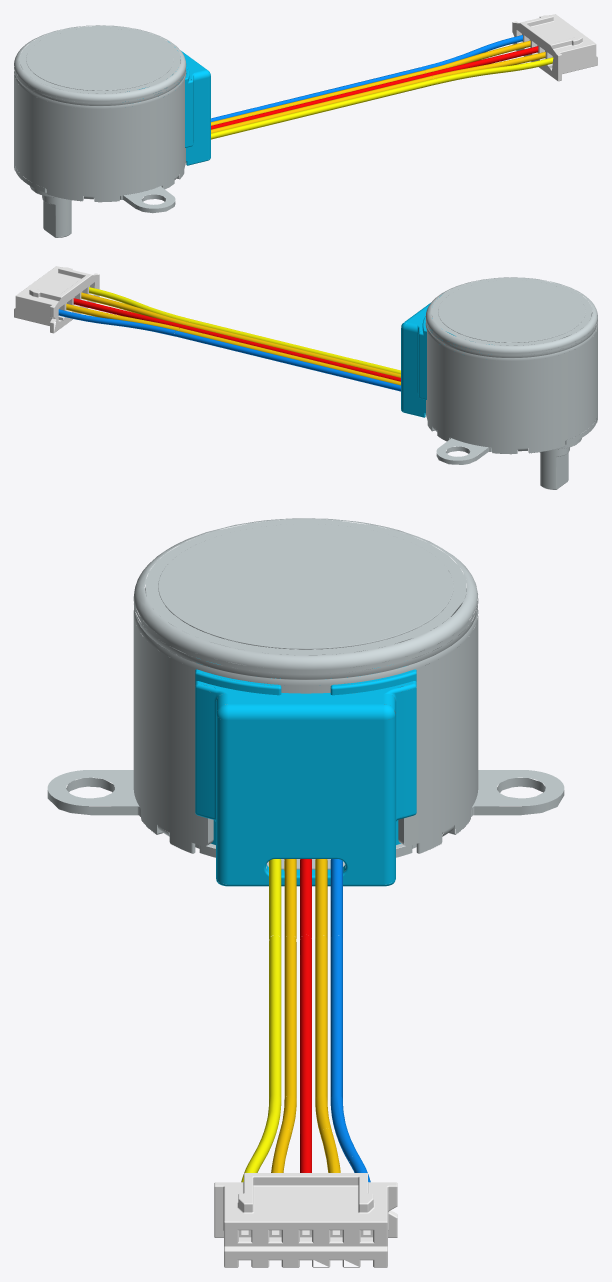
The model's file is motor.glb.
The picture shows the model from 3 angles, top to bottom: view 1: azimuth 30°, elevation 25°; view 2: azimuth 150°, elevation 25°; view 3: azimuth 270°, elevation 25°; orthographic projection. The views are drawn at different scales.
Bounding box in the file's own units: 0.1036 × 0.0291 × 0.042.
